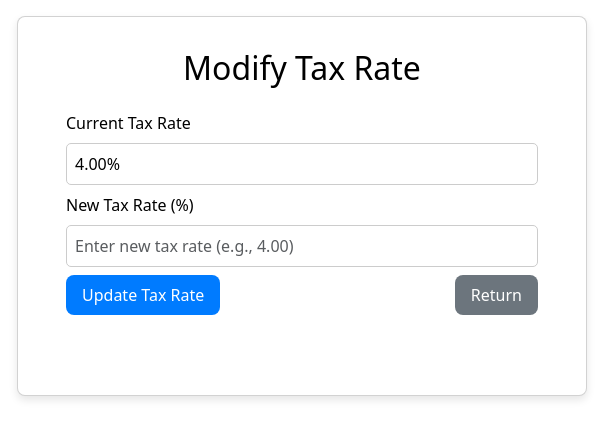
Scenario: ModifyTaxRateComponent › displays error message when tax rate update fails
Check: the field showing "4.00%" is shown, box [66,143,538,185]
# Enter a new valid tax rate
Type "5" into the number field with placeholder "Enter new tax rate (e.g., 4.00)".
click(302, 246); type("5")  # box [66,225,538,267]
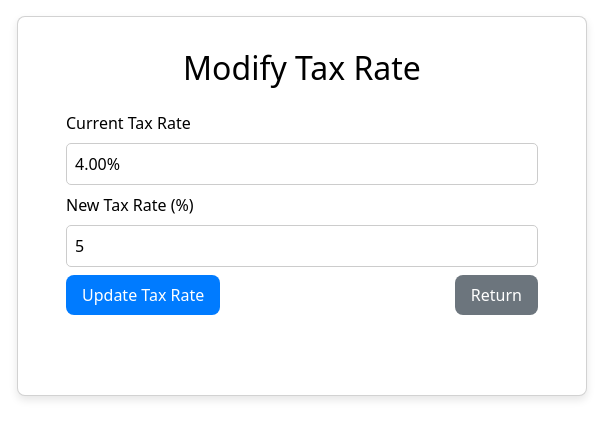
Click the button "Update Tax Rate".
click(143, 295)  # box [66,275,220,315]
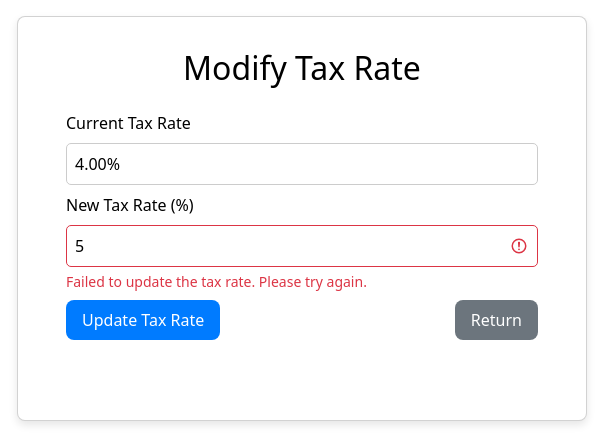
Check: the text "Failed to update the tax rate. Please try again." is shown, box [66,272,367,291]
